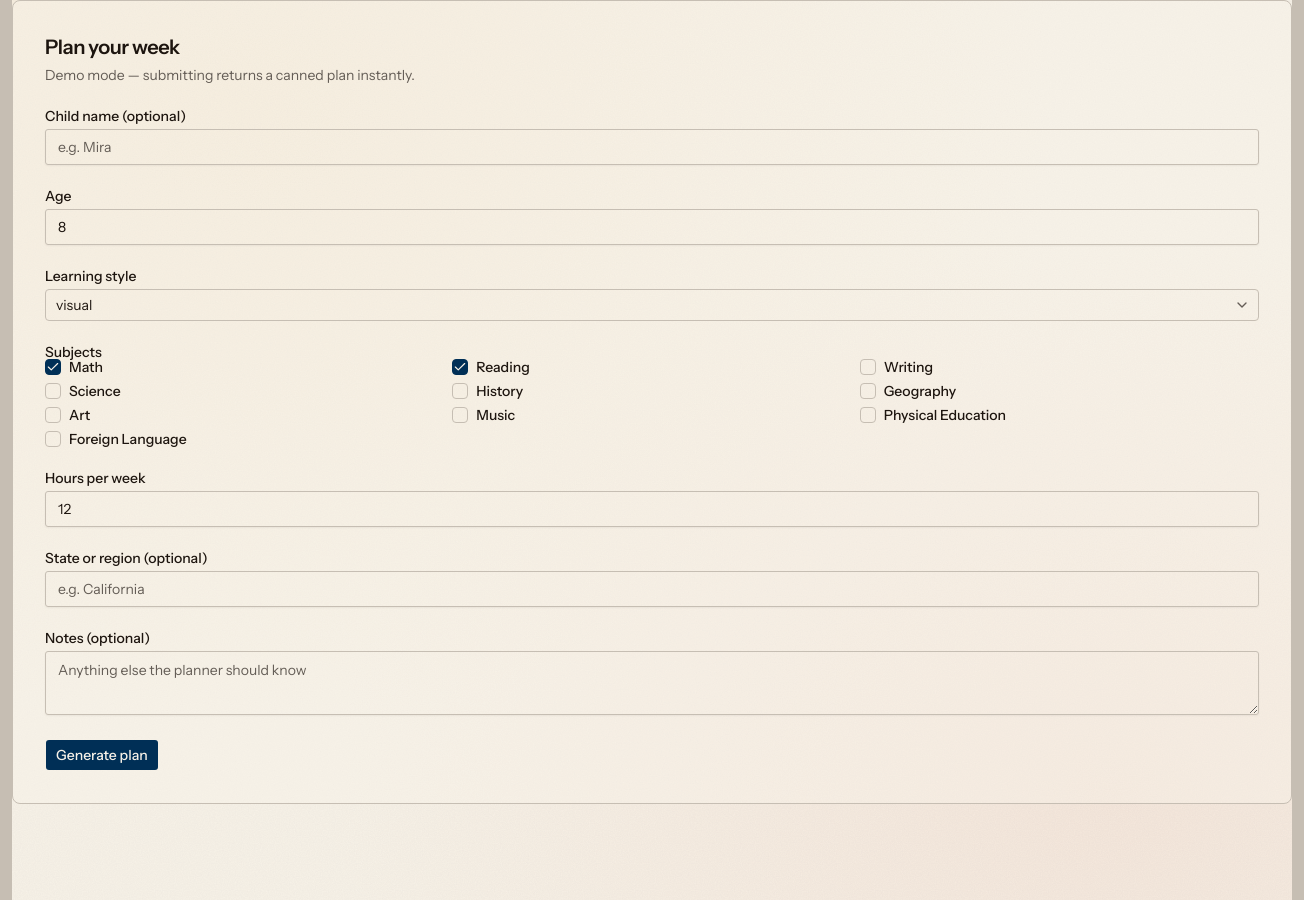
it: ClassMapFlow — save integration › Save plan persists to localStorage and flips the button to 'Saved' (disabled)
Click the button "Generate plan".
click(102, 755)  # box [45, 739, 159, 771]
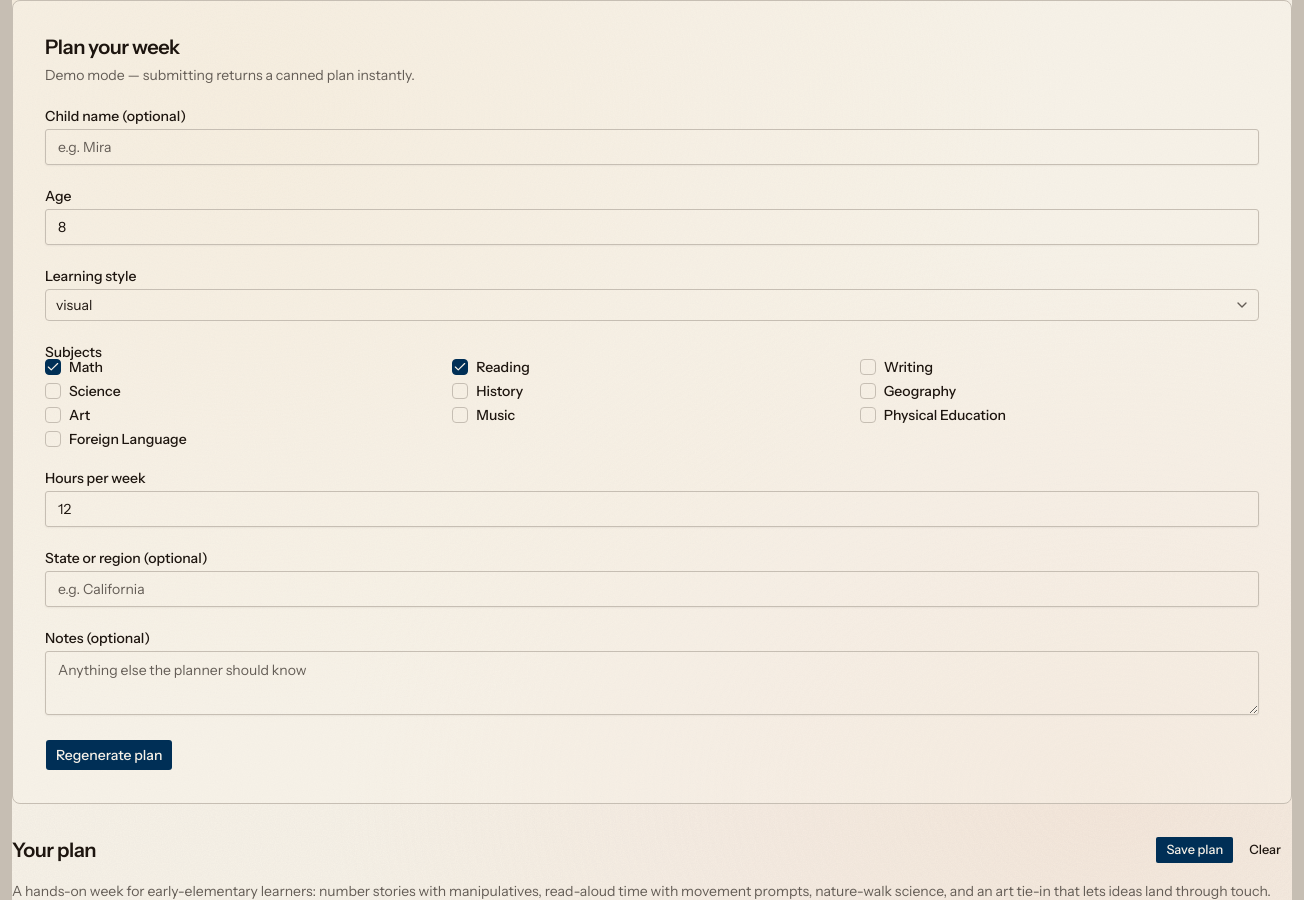
Result: the button with test id "classmap-flow-save" reads "Save plan"
Click the button with test id "classmap-flow-save".
click(1195, 850)  # box [1155, 836, 1234, 864]
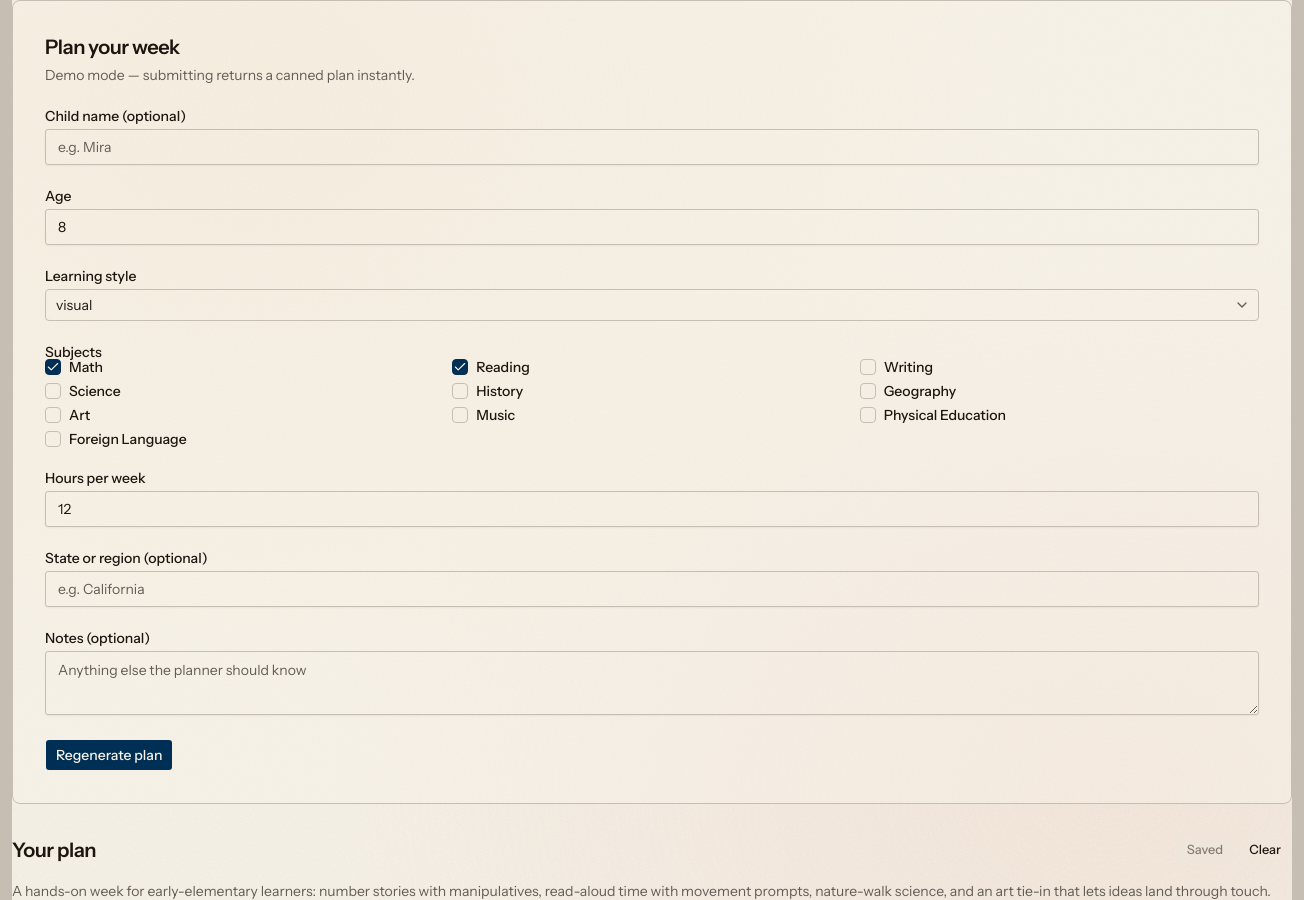
Result: the button with test id "classmap-flow-save" reads "Saved" at [1176, 836, 1234, 864]
Result: the button with test id "classmap-flow-save" is disabled at [1176, 836, 1234, 864]
